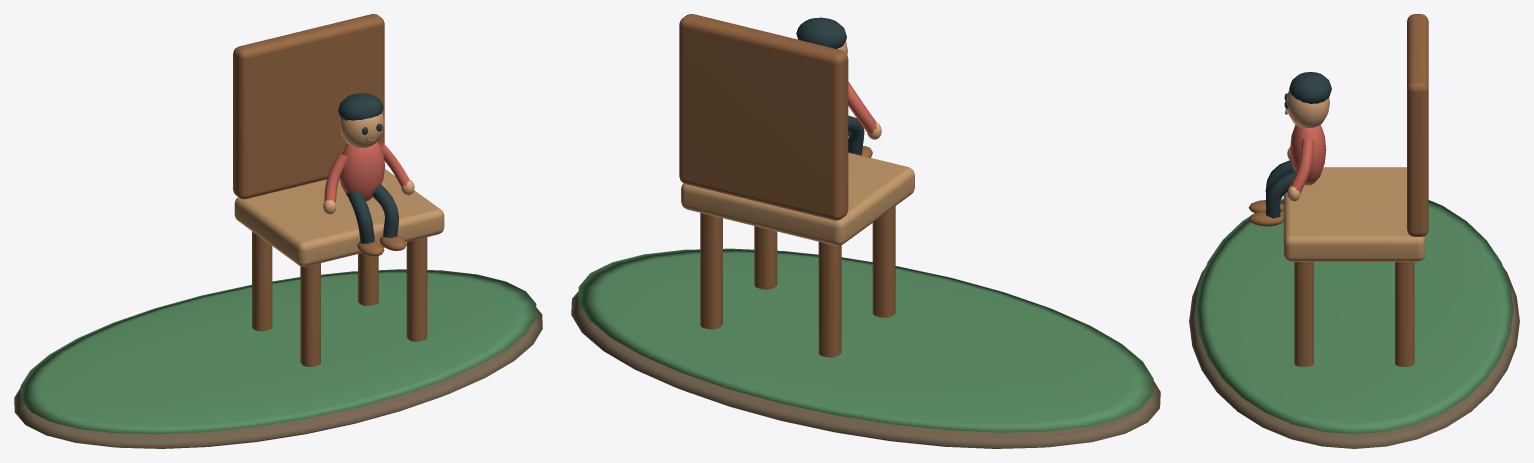
The model's file is child-chair.glb.
3 views of the same model, side by side, from view 1: azimuth 30°, elevation 25°; view 2: azimuth 150°, elevation 25°; view 3: azimuth 270°, elevation 25° (orthographic). The views are drawn at different scales.
Parts seen in each view (by area): view 1: child-chair_surface_01, child-chair_surface_03, child-chair_surface_02, child-chair_surface_00, child-chair_surface_06, child-chair_surface_05, child-chair_surface_04; view 2: child-chair_surface_01, child-chair_surface_03, child-chair_surface_00, child-chair_surface_02, child-chair_surface_05, child-chair_surface_06; view 3: child-chair_surface_01, child-chair_surface_02, child-chair_surface_03, child-chair_surface_00, child-chair_surface_05, child-chair_surface_06, child-chair_surface_04.
Boxes of the visible parts, bbox=[...] form: child-chair_surface_01: bbox=[20, 269, 536, 434]; child-chair_surface_03: bbox=[233, 14, 427, 366]; child-chair_surface_02: bbox=[234, 169, 444, 266]; child-chair_surface_00: bbox=[14, 308, 542, 448]; child-chair_surface_06: bbox=[324, 142, 410, 202]; child-chair_surface_05: bbox=[338, 93, 398, 243]; child-chair_surface_04: bbox=[323, 112, 414, 214]; child-chair_surface_01: bbox=[578, 248, 1153, 432]; child-chair_surface_03: bbox=[679, 14, 895, 357]; child-chair_surface_00: bbox=[571, 291, 1160, 448]; child-chair_surface_02: bbox=[681, 152, 914, 245]; child-chair_surface_05: bbox=[796, 17, 864, 155]; child-chair_surface_06: bbox=[848, 81, 876, 133]; child-chair_surface_01: bbox=[1195, 198, 1513, 434]; child-chair_surface_02: bbox=[1283, 167, 1425, 261]; child-chair_surface_03: bbox=[1248, 14, 1428, 366]; child-chair_surface_00: bbox=[1189, 267, 1519, 448]; child-chair_surface_05: bbox=[1265, 72, 1331, 218]; child-chair_surface_06: bbox=[1290, 124, 1326, 193]; child-chair_surface_04: bbox=[1287, 90, 1329, 201].
Bounding box in the file's own units: 4.56 × 2.66 × 2.5.
